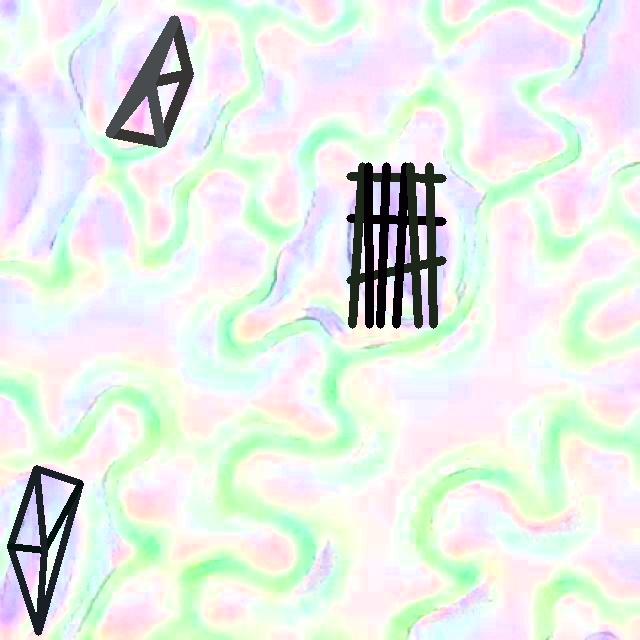open: (346, 163, 445, 328), (7, 466, 82, 635), (106, 16, 193, 147)
